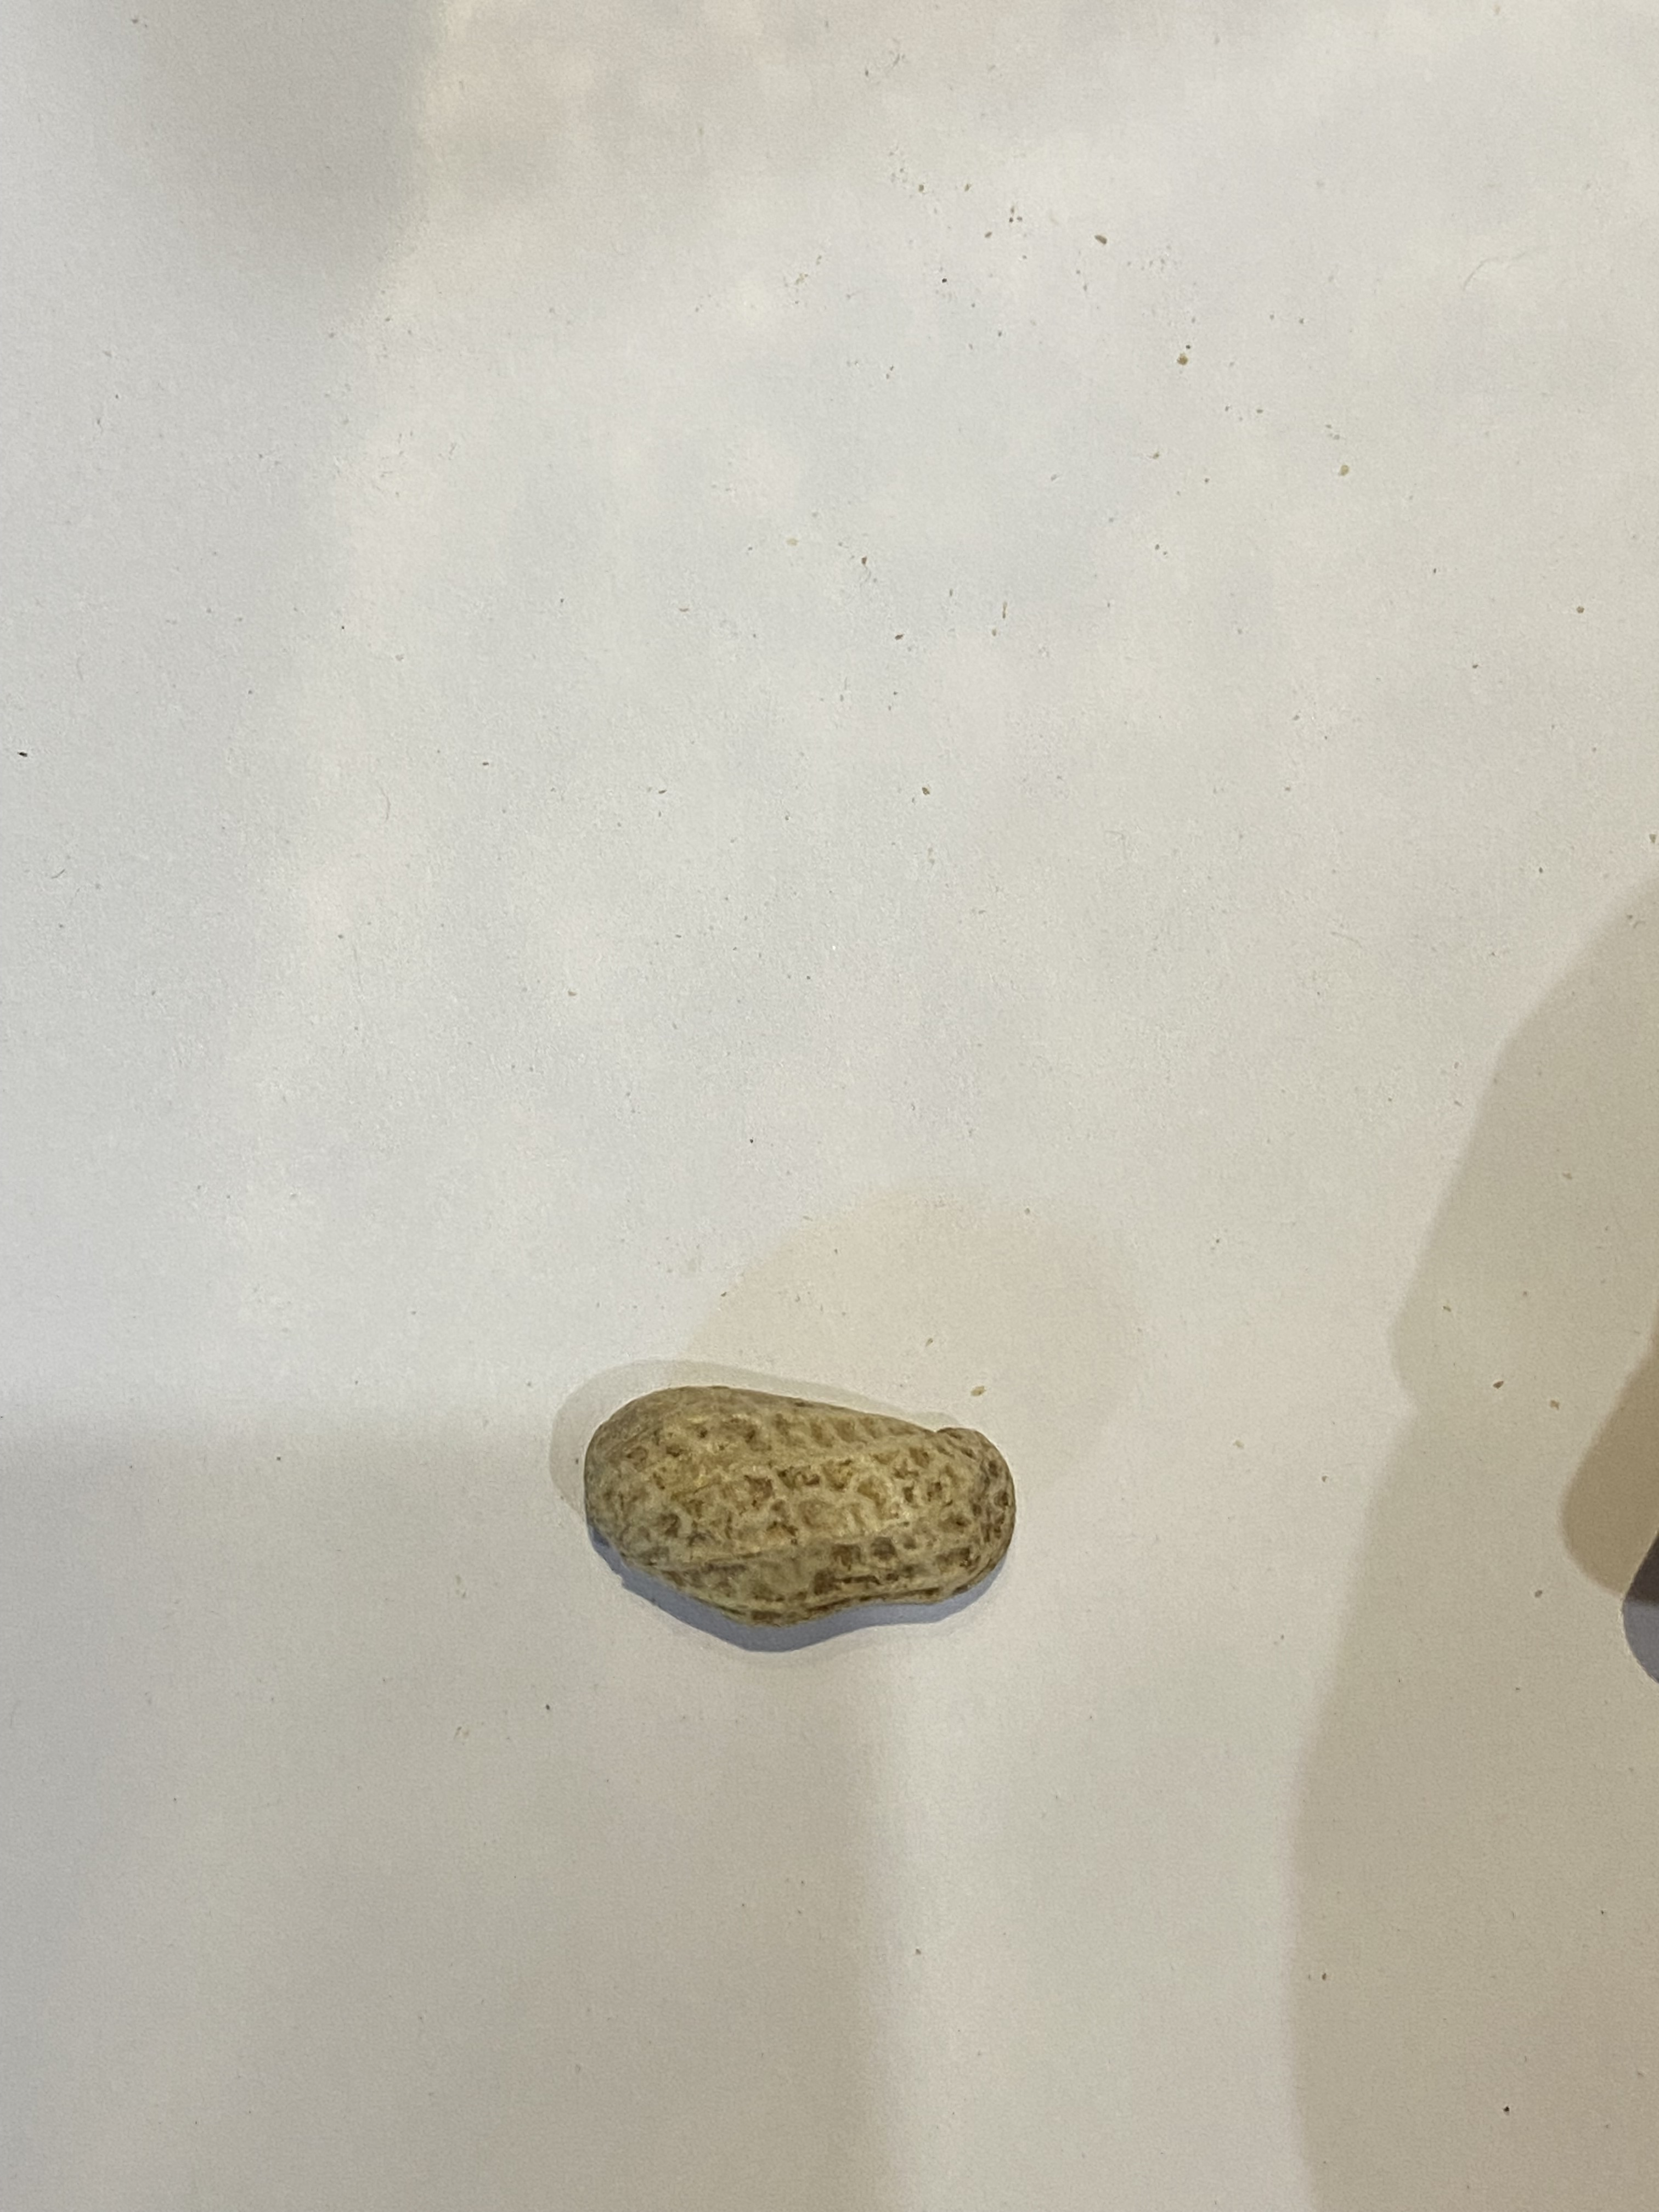kacang1: (579, 1343, 1019, 1634)
